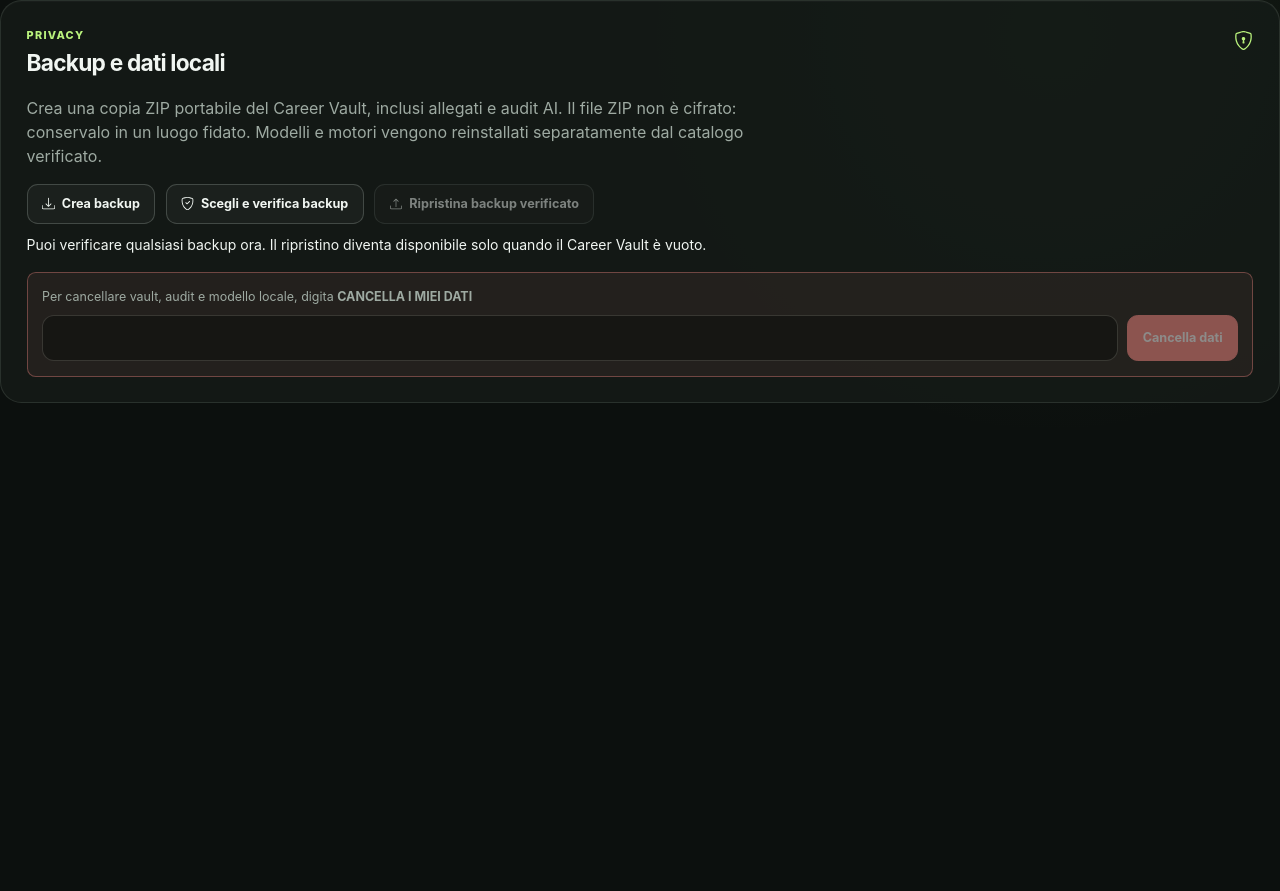
Test: DataRecoveryPanel › does not render or refetch private state after terminal restore success
What coordinates should you click on to do the following:
click the button "Scegli e verifica backup"
I would click on:
 (265, 204)
Its box is [166,184,364,224].
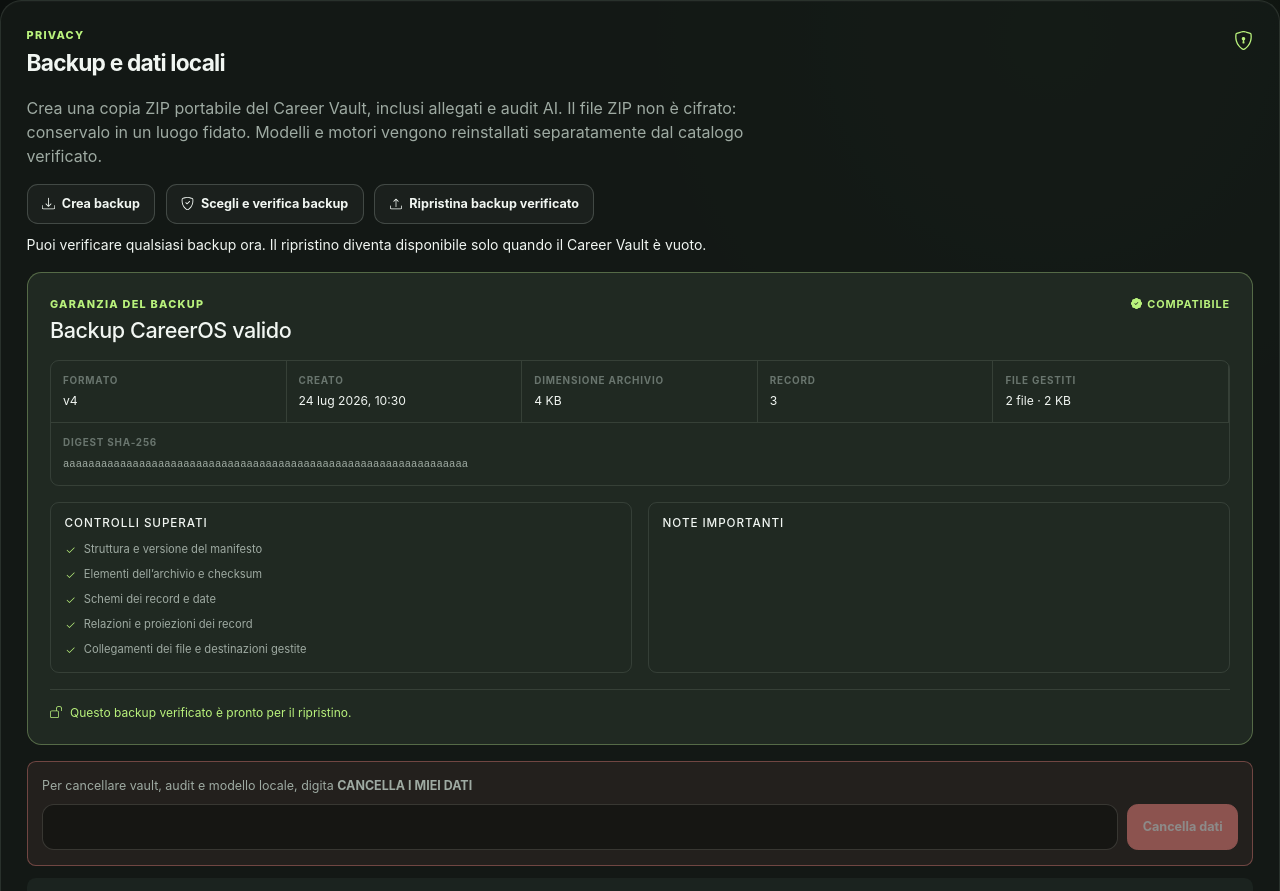
What coordinates should you click on to do the following:
click the button "Ripristina backup verificato"
I would click on:
 (484, 204)
Its box is [374,184,594,224].
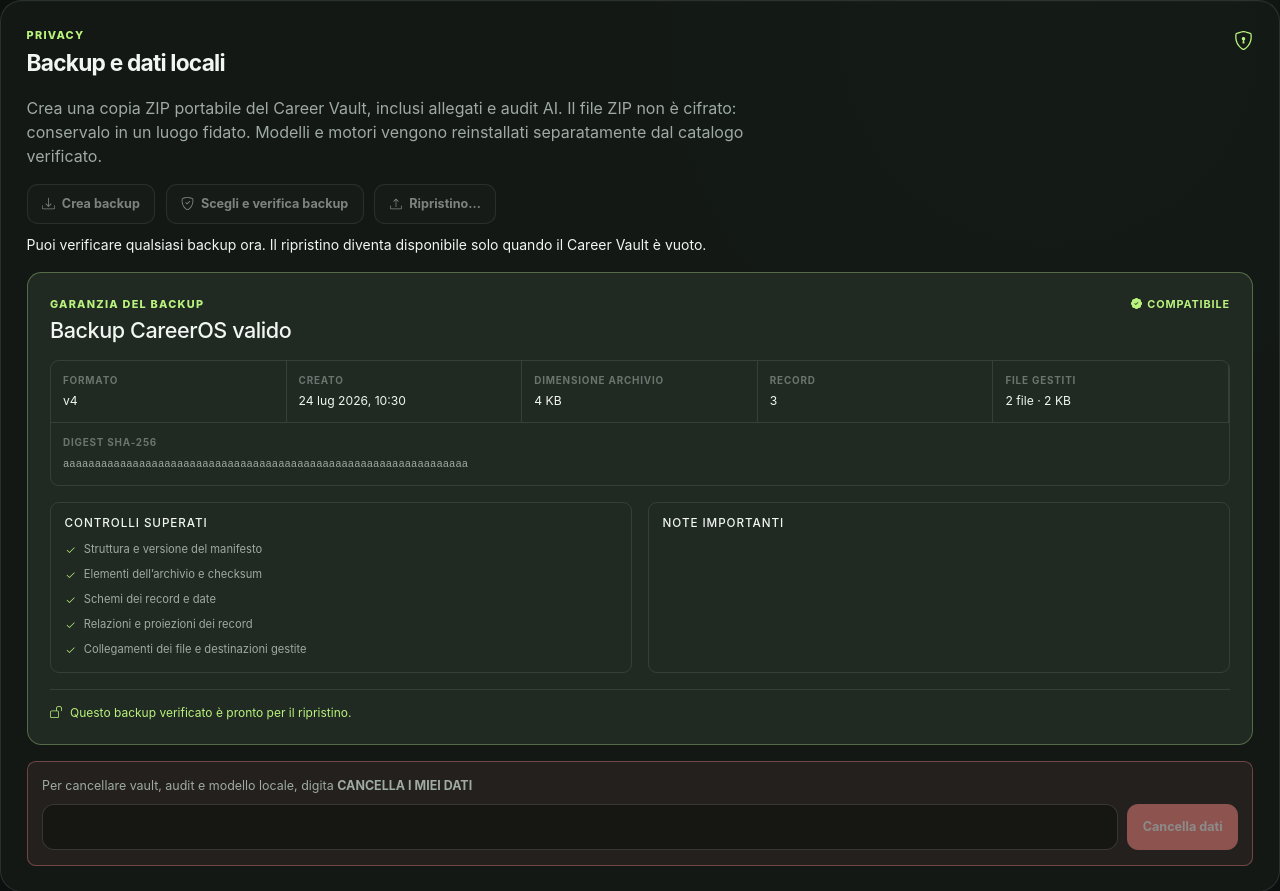
Result: the button "Ripristino…" is disabled at [374,184,496,224]
